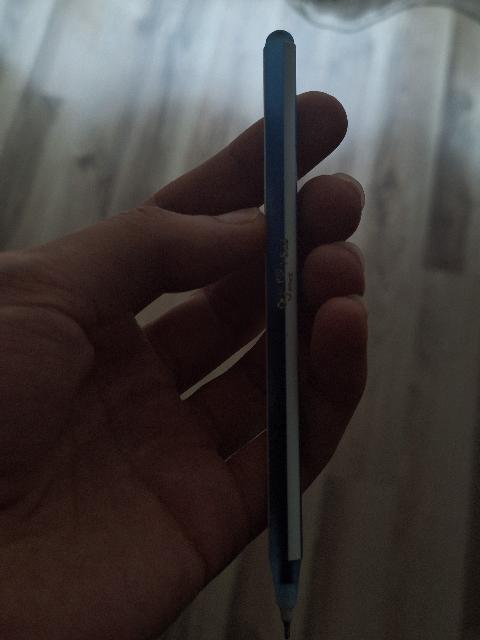writing_tool: (260, 25, 305, 638)
